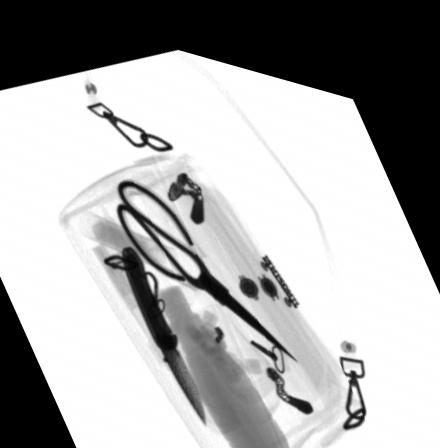Knife: (122, 239, 207, 415)
Scissors: (114, 170, 298, 344)
